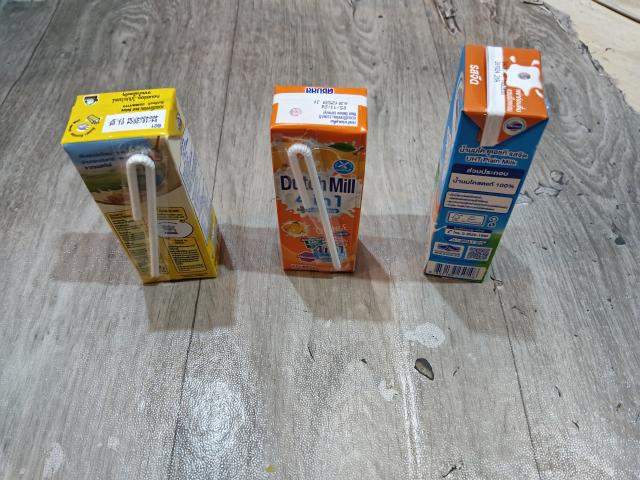drink_box: (418, 37, 564, 293), (51, 79, 227, 283), (265, 79, 371, 276)
